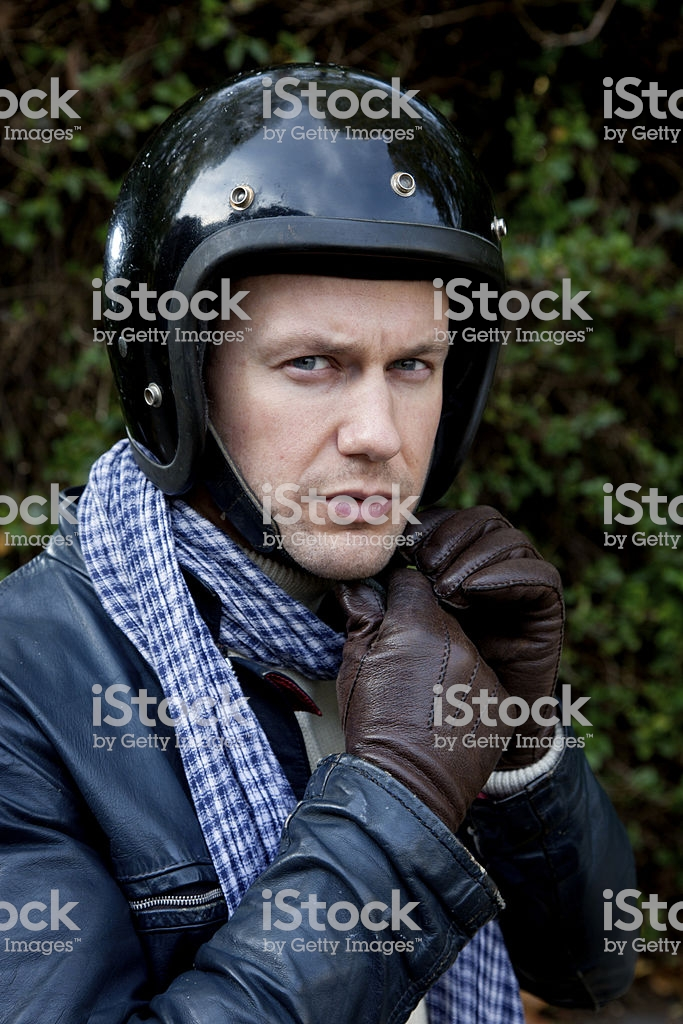helmet: (86, 81, 537, 351)
